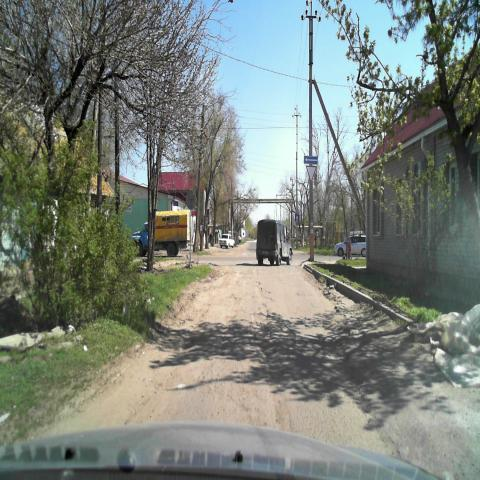2_4: (306, 164, 316, 181)
5_7_2: (304, 154, 318, 163)
